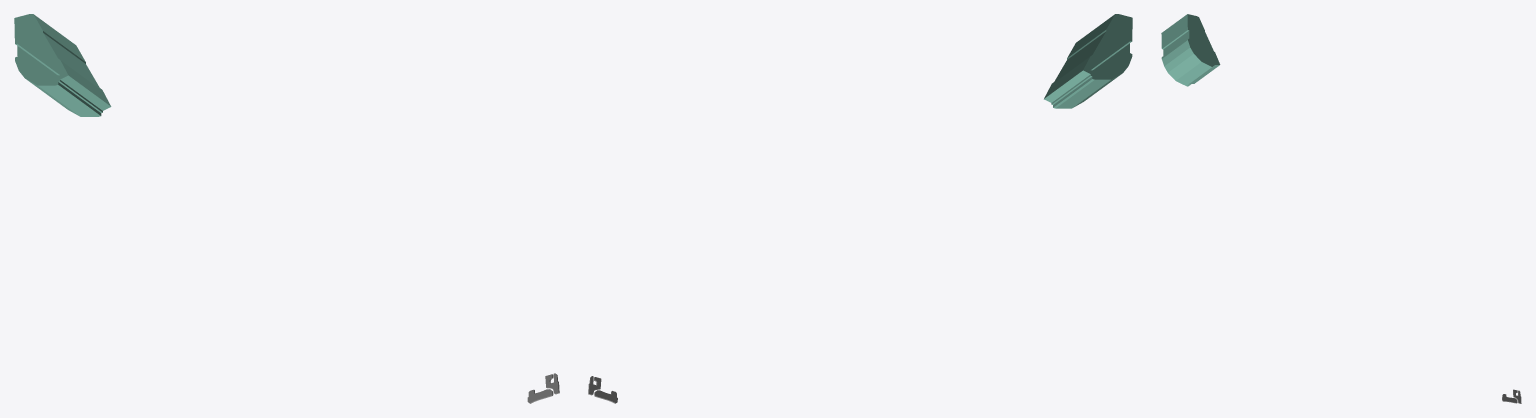
3 renders of one model, left to right at view 1: azimuth 30°, elevation 25°; view 2: azimuth 150°, elevation 25°; view 3: azimuth 330°, elevation 25°, orthographic. The views are drawn at different scales.
Parts seen in each view (by area): view 1: 0_3_1_3; view 2: 0_3_1_3; view 3: 0_3_1_3.
Boxes of the visible parts, x1=… form: 0_3_1_3: x1=14, y1=14, x2=559, y2=403; 0_3_1_3: x1=588, y1=14, x2=1132, y2=403; 0_3_1_3: x1=1161, y1=14, x2=1521, y2=403.
Bounding box in the file's own units: 1016 × 912 × 147.
